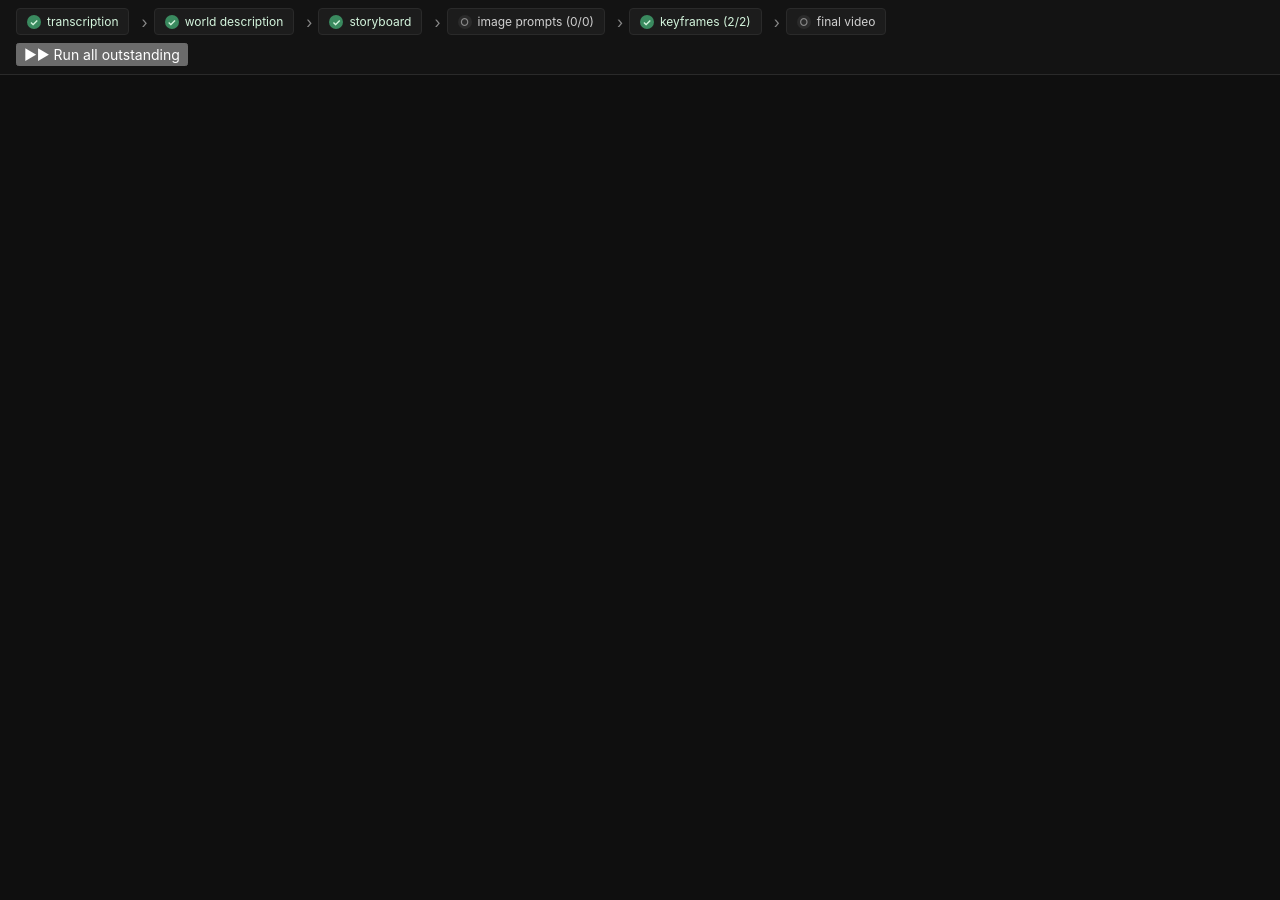
Test case: PipelinePanel › existing world exposes confirmed visual-language change from the world dialog
The width and height of the screenshot is (1280, 900).
Click the button "✓ world description". click: (224, 22)
box: [154,8,294,35]
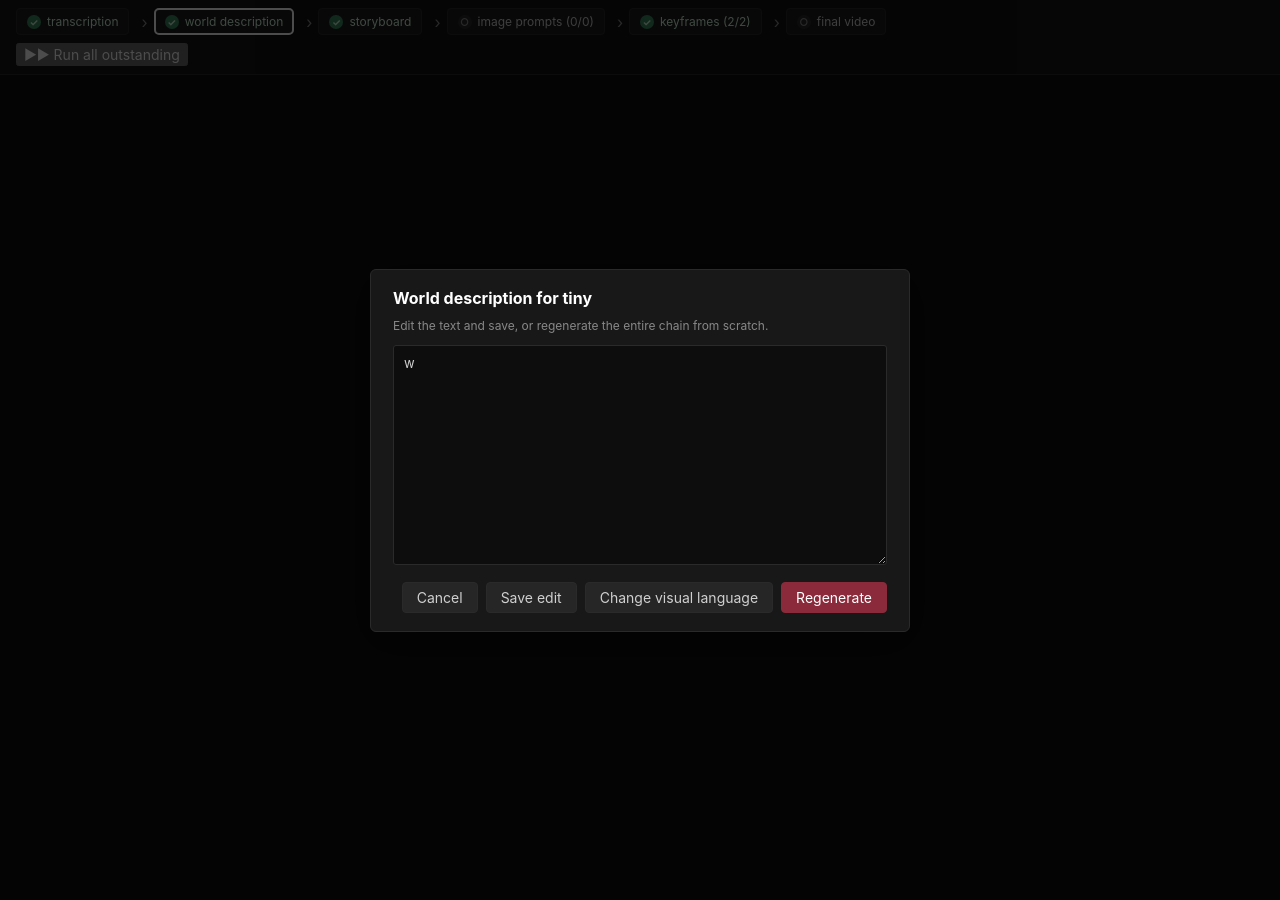
Click the button "Change visual language". click: (679, 597)
box: [585,582,773,612]
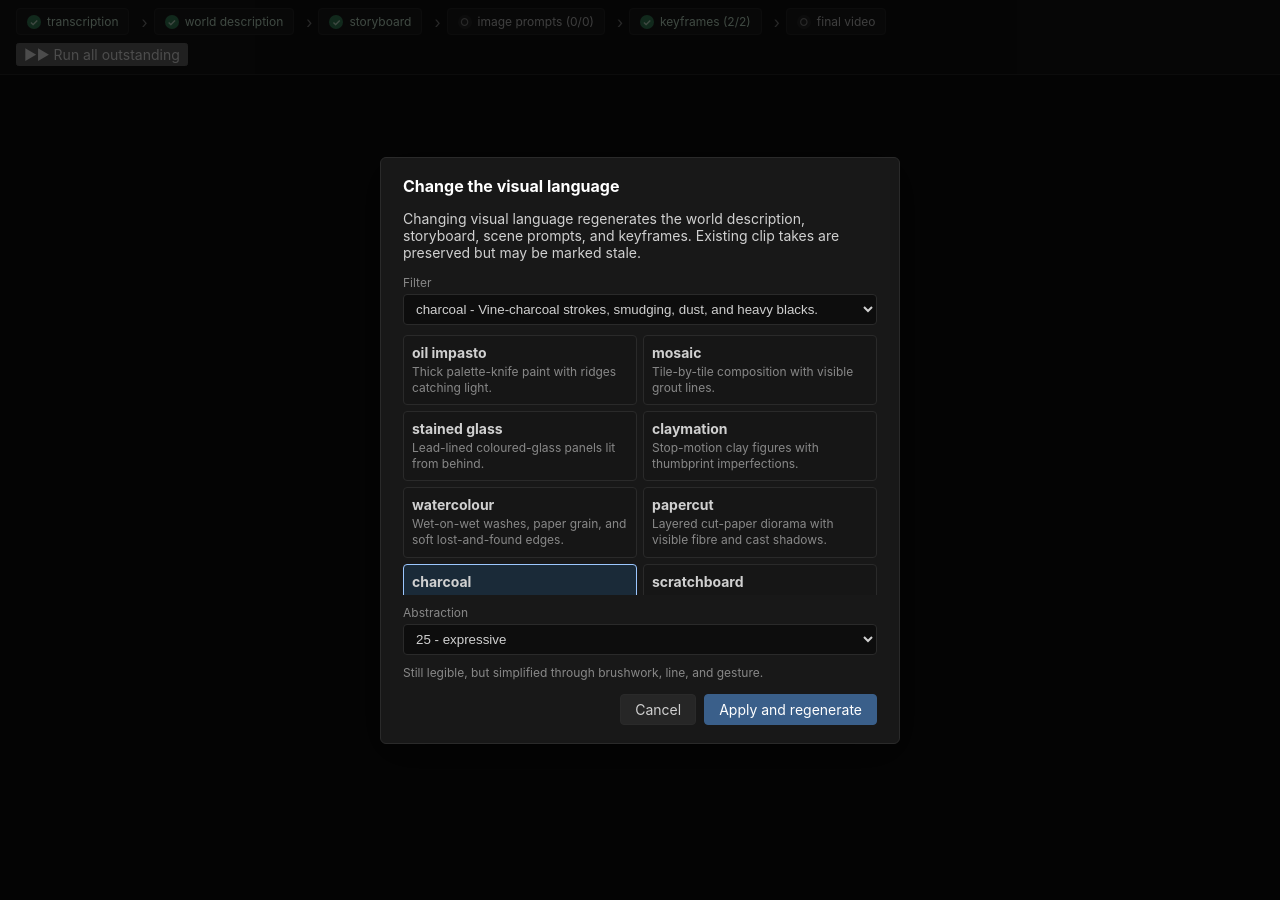
Expected: the heading "Change the visual language" is shown, [403,176,620,196]
Expected: the text "regenerates the world description, storyboard, scene prompts, and keyframes" is shown, [403,210,839,260]
Expected: the button "Apply and regenerate" is disabled, [704,694,877,724]
